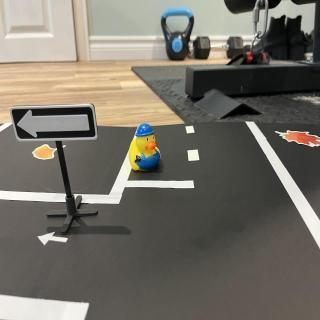duck_specialty: (130, 124, 162, 172)
road_oneway: (36, 229, 72, 249)
sign_oneway_left: (11, 105, 99, 144)
